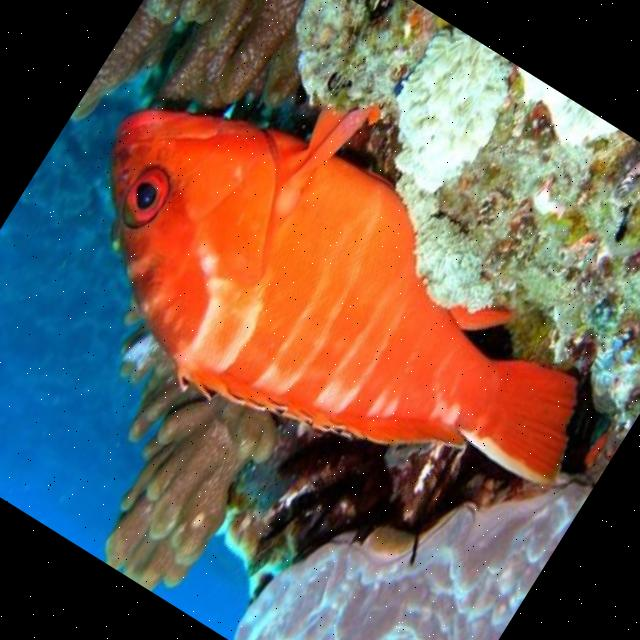ikan: (14, 0, 640, 586)
